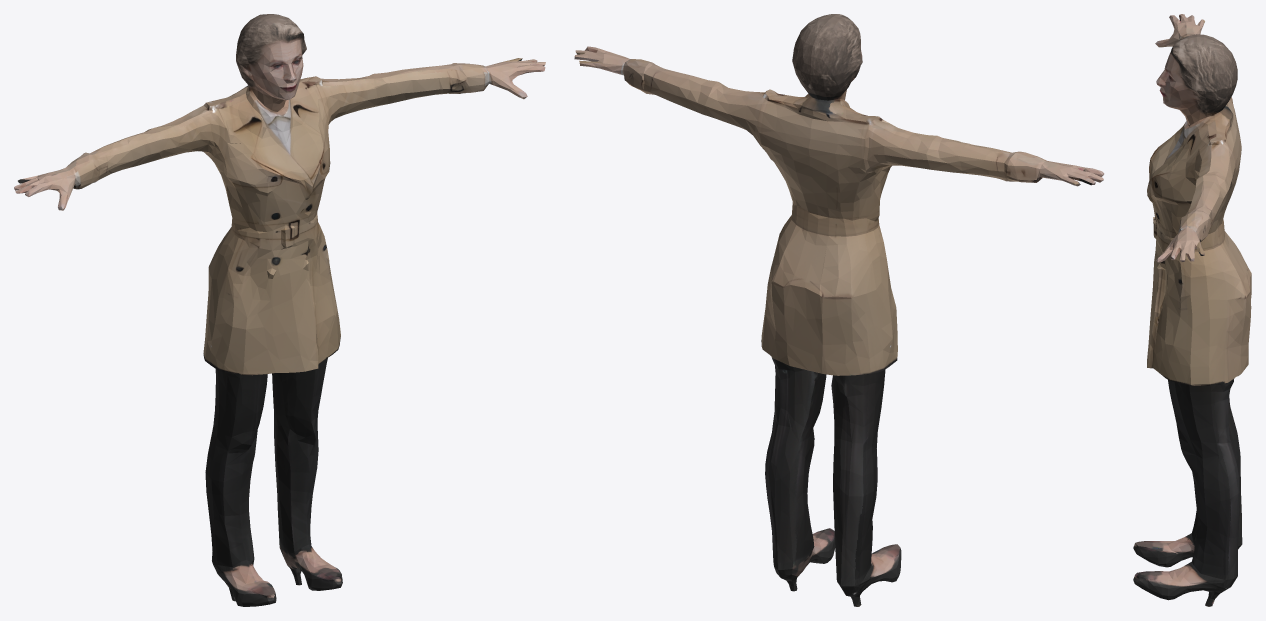
File: edit.glb
The picture shows the model from 3 angles, left to right: view 1: azimuth 30°, elevation 25°; view 2: azimuth 150°, elevation 25°; view 3: azimuth 270°, elevation 25°; orthographic projection. The views are drawn at different scales.
Parts seen in each view (by area): view 1: world; view 2: world; view 3: world.
Boxes of the visible parts, <box> form: world: <box>14,14,545,606</box>; world: <box>574,14,1104,606</box>; world: <box>1133,14,1251,606</box>.
Bounding box in the file's own units: 0.9556 × 0.9992 × 0.1937.
1 material, 1 textured.
